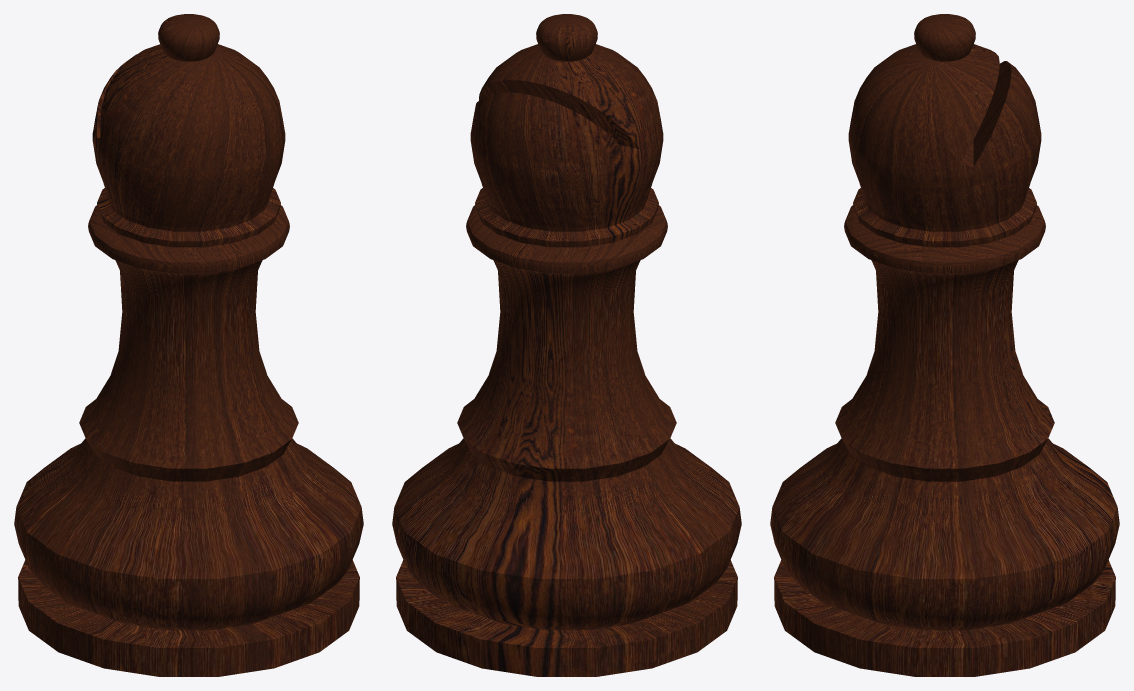
Rendered from black_bishop.obj.
3 views of the same model, side by side, from view 1: azimuth 30°, elevation 25°; view 2: azimuth 150°, elevation 25°; view 3: azimuth 270°, elevation 25° (orthographic).
Parts seen in each view (by area): view 1: Bishop_B1_Material_001_0.001; view 2: Bishop_B1_Material_001_0.001; view 3: Bishop_B1_Material_001_0.001.
Boxes of the visible parts, x1=… form: Bishop_B1_Material_001_0.001: x1=14, y1=14, x2=363, y2=676; Bishop_B1_Material_001_0.001: x1=392, y1=14, x2=741, y2=676; Bishop_B1_Material_001_0.001: x1=770, y1=14, x2=1119, y2=676.
Size of the model in its own units: 2.75 by 5.23 by 2.79.
